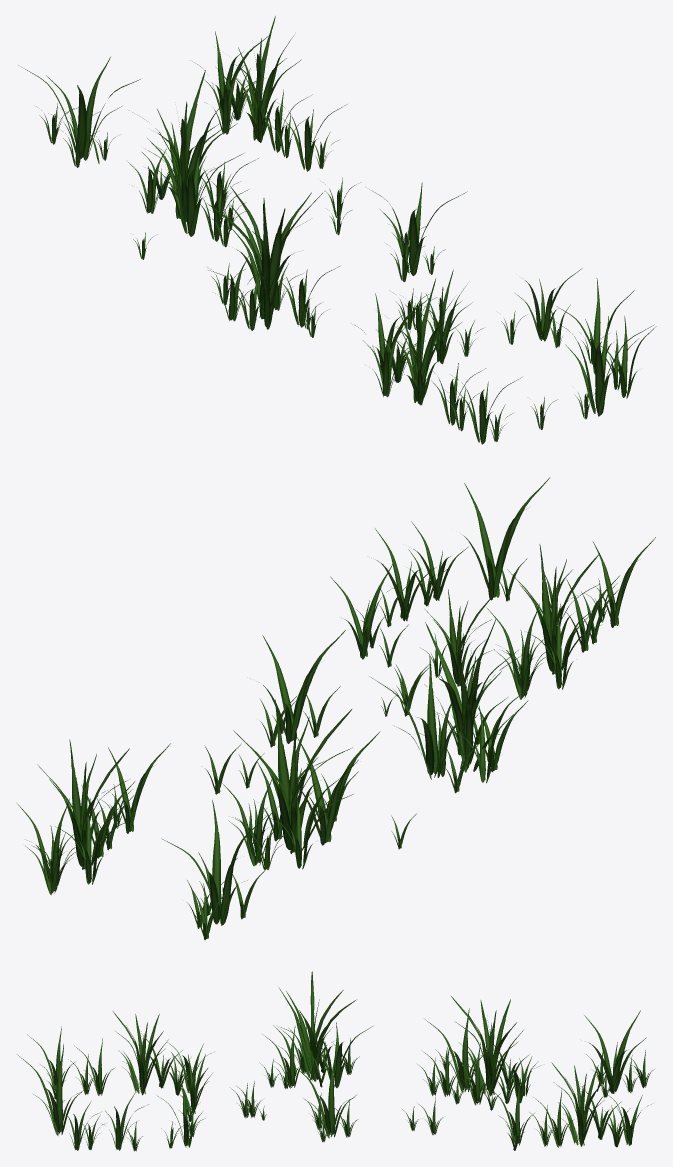
Rendered from HierbaHojas2.fbx.
3 views of the same model, one above another, from view 1: azimuth 30°, elevation 25°; view 2: azimuth 150°, elevation 25°; view 3: azimuth 270°, elevation 25° (orthographic). The views are drawn at different scales.
Visible parts, largest first — view 1: Hoja3.517, Hoja2.018, Hoja3.748, Hoja3.660, Hoja3.764, Hoja3.641; view 2: Hoja3.517, Hoja2.018, Hoja3.748, Hoja3.660, Hoja3.764, Hoja3.641; view 3: Hoja3.517, Hoja2.018, Hoja3.748, Hoja3.660, Hoja3.764, Hoja3.641, Hoja3.805, Hoja3.820.
Boxes of the visible parts, box(x1,y1,x2,y2) form: Hoja3.517: box(351, 268, 656, 444); Hoja2.018: box(126, 70, 258, 247); Hoja3.748: box(207, 186, 339, 337); Hoja3.660: box(192, 16, 347, 171); Hoja3.764: box(18, 57, 140, 167); Hoja3.641: box(369, 182, 467, 281); Hoja3.517: box(330, 477, 655, 699); Hoja2.018: box(220, 699, 380, 869); Hoja3.748: box(369, 618, 528, 793); Hoja3.660: box(17, 739, 170, 895); Hoja3.764: box(161, 800, 267, 939); Hoja3.641: box(260, 630, 345, 747); Hoja3.517: box(17, 1011, 212, 1151); Hoja2.018: box(417, 996, 540, 1110); Hoja3.748: box(259, 971, 372, 1089); Hoja3.660: box(486, 1062, 651, 1150); Hoja3.764: box(584, 1010, 654, 1097); Hoja3.641: box(290, 1053, 358, 1142); Hoja3.805: box(231, 1081, 266, 1120); Hoja3.820: box(402, 1097, 443, 1135).
Bounding box in the file's own units: 158 × 72.1 × 428.
